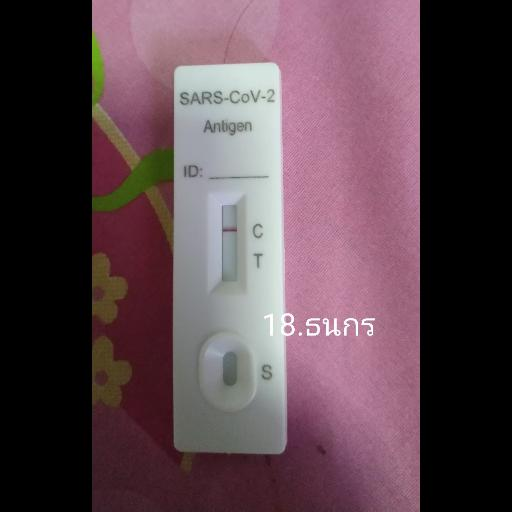Neg: (173, 63, 285, 455)
